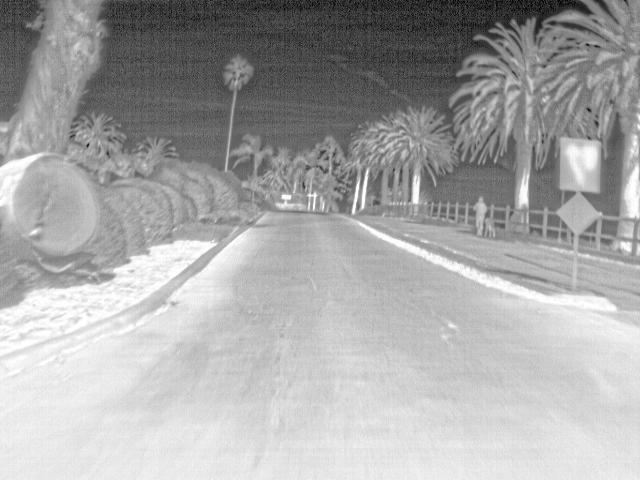dog: (485, 219, 498, 239)
person: (473, 195, 488, 238)
